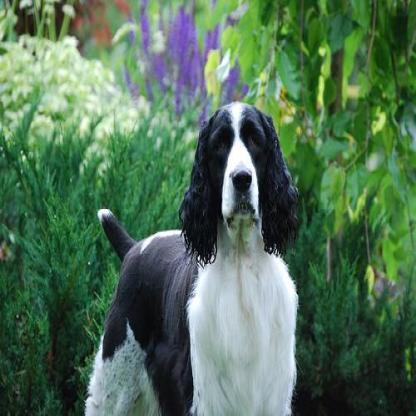English_springer: (80, 97, 298, 412)
